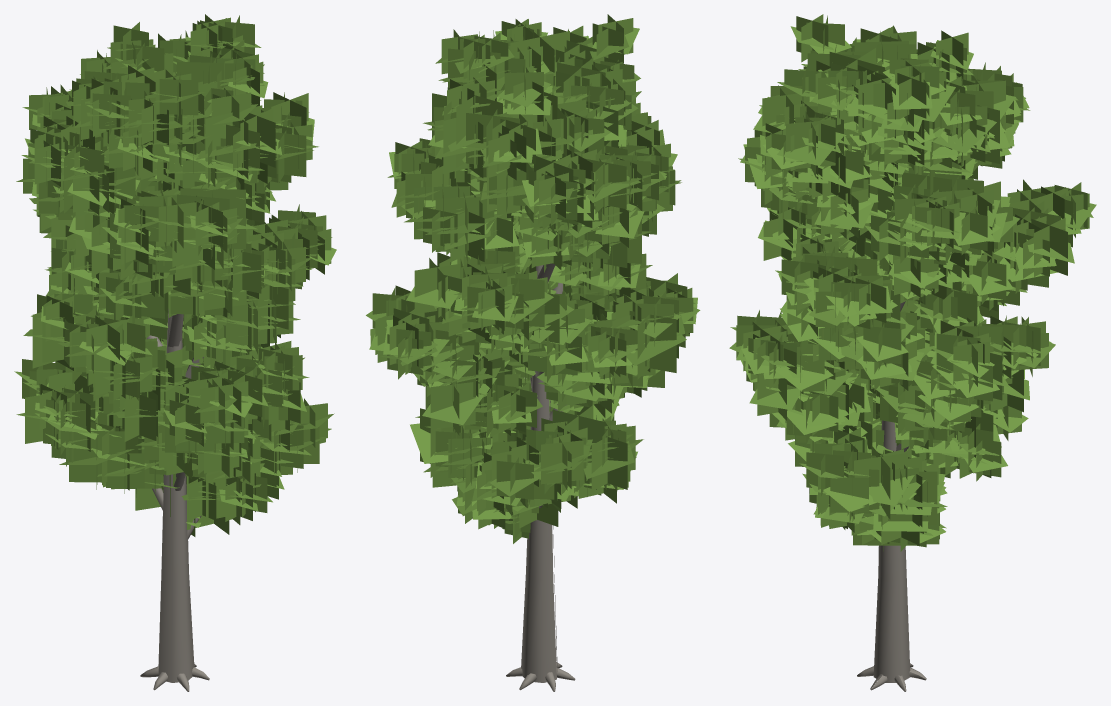
File: tilleul_4_f2_jeu.glb
3 views of the same model, side by side, from view 1: azimuth 30°, elevation 25°; view 2: azimuth 150°, elevation 25°; view 3: azimuth 270°, elevation 25° (orthographic).
Visible parts, largest first — view 1: Tilleul_T4_f2_Leger; view 2: Tilleul_T4_f2_Leger; view 3: Tilleul_T4_f2_Leger.
Boxes of the visible parts, box(x1,y1,x2,y2) form: Tilleul_T4_f2_Leger: box(14, 14, 336, 691); Tilleul_T4_f2_Leger: box(366, 14, 700, 691); Tilleul_T4_f2_Leger: box(729, 14, 1096, 691).
Size of the model in its own units: 8.01 by 17.08 by 8.89.
